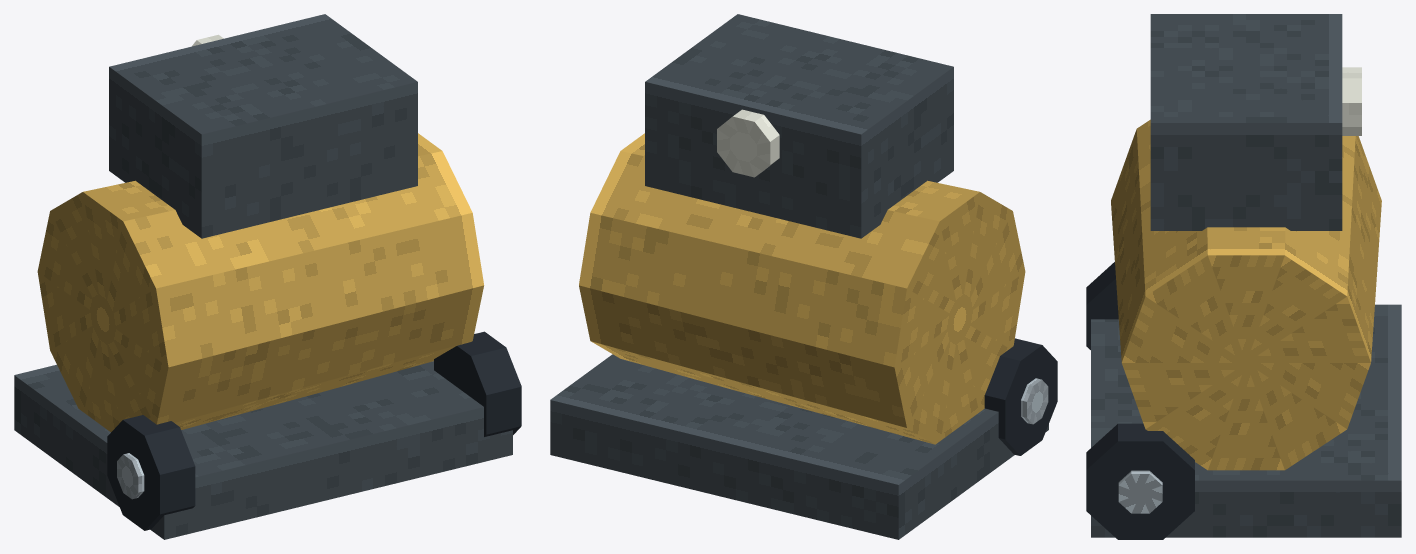
File: f_air_compressor.glb
The picture shows the model from 3 angles, left to right: view 1: azimuth 30°, elevation 25°; view 2: azimuth 150°, elevation 25°; view 3: azimuth 270°, elevation 25°; orthographic projection. The views are drawn at different scales.
Visible parts, largest first — view 1: block_pressure-tank, block_motor, block_skid, block_wheel--0.295, block_wheel-0.295, block_wheel-hub--0.295; view 2: block_pressure-tank, block_motor, block_skid, block_wheel--0.295, block_gauge, block_wheel-hub--0.295; view 3: block_pressure-tank, block_motor, block_skid, block_wheel-0.295, block_wheel-hub-0.295, block_wheel--0.295, block_gauge.
Boxes of the visible parts, x1=… form: block_pressure-tank: x1=37, y1=133, x2=484, y2=431; block_motor: x1=109, y1=14, x2=417, y2=238; block_skid: x1=14, y1=361, x2=512, y2=539; block_wheel--0.295: x1=107, y1=415, x2=195, y2=530; block_wheel-0.295: x1=434, y1=331, x2=521, y2=436; block_wheel-hub--0.295: x1=117, y1=453, x2=144, y2=499; block_pressure-tank: x1=579, y1=133, x2=1025, y2=444; block_motor: x1=645, y1=14, x2=953, y2=238; block_skid: x1=550, y1=354, x2=1048, y2=539; block_wheel--0.295: x1=984, y1=338, x2=1057, y2=455; block_gauge: x1=717, y1=109, x2=779, y2=177; block_wheel-hub--0.295: x1=1021, y1=378, x2=1048, y2=424; block_pressure-tank: x1=1111, y1=119, x2=1381, y2=470; block_motor: x1=1150, y1=14, x2=1342, y2=230; block_skid: x1=1091, y1=304, x2=1401, y2=537; block_wheel-0.295: x1=1086, y1=423, x2=1194, y2=539; block_wheel-hub-0.295: x1=1118, y1=470, x2=1162, y2=513; block_wheel--0.295: x1=1086, y1=262, x2=1118, y2=349; block_gauge: x1=1342, y1=67, x2=1361, y2=135.
Bounding box in the file's own units: 0.676 × 0.636 × 0.4772.
Materials: 1 (1 with a texture image).
